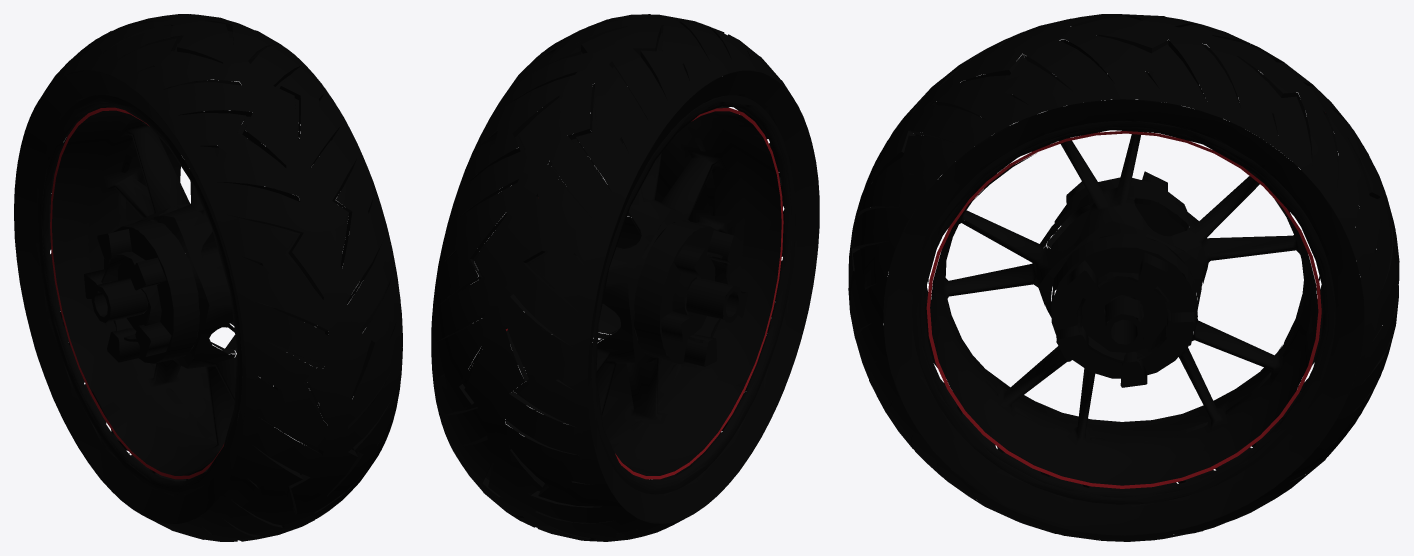
The model's file is banh xe.fbx.
The picture shows the model from 3 angles, left to right: view 1: azimuth 30°, elevation 25°; view 2: azimuth 150°, elevation 25°; view 3: azimuth 270°, elevation 25°; orthographic projection. The views are drawn at different scales.
Parts seen in each view (by area): view 1: 756; view 2: 756; view 3: 756.
Part boxes in pixels (x1,y1,x2,y2): 756: (14, 14, 402, 541); 756: (431, 14, 819, 541); 756: (848, 14, 1399, 541).
Bounding box in the file's own units: 28.32 × 60.82 × 60.82.
